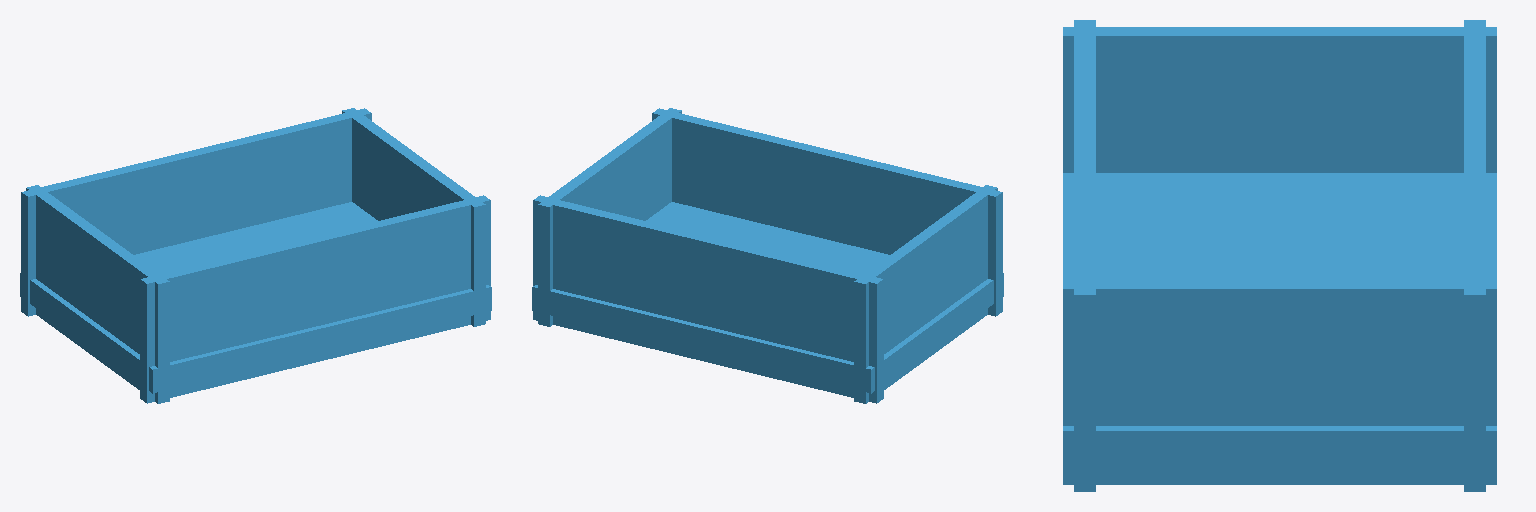
robot.urdf — bowl.urdf:
<?xml version="0.0" ?>
<robot name="bowl.urdf">

  <material name="yellow">
    <color rgba="1 1 0.4 1"/>
  </material>
  <material name="red">
    <color rgba="1 0 0 1"/>
  </material>
  <material name="blue">
    <color rgba=".17 .20 .38 1"/>
  </material>
  <material name="teal">
    <color rgba="0 .5 .5 1"/>
  </material>
  <material name="orange">
    <color rgba=".93 .6 .23 1"/>
  </material>

  <link name="world"/>

  <link name="base">
    <inertial>
      <origin rpy="0 0 0" xyz="0.0 0.0 0.0"/>
       <mass value=".1"/>
       <inertia ixx="1" ixy="0" ixz="0" iyy="1" iyz="0" izz="1"/>
    </inertial>
    <!-- <visual>
      <origin rpy="0 0 0" xyz="0 0 0"/>
      <geometry>
        <box size="1 1 0.5"/> -->
        <!-- <mesh filename="roboverse/envs/assets/objects/box/box.dae" scale="[phone redacted]"/> -->
      <!-- </geometry>
      <material name="teal"/>
    </visual> -->
    <visual>
      <!-- bottom -->
      <origin rpy="0 0 0" xyz="0 0 -0.15"/>
      <geometry>
        <box size="1.48 1 .1"/>
      </geometry>
    </visual>
    <visual>
      <!-- right -->
      <origin rpy="0 0 0" xyz="0 -.45 0"/>
      <geometry>
        <box size="1.5 .05 .5"/>
      </geometry>
    </visual>
    <visual>
      <!-- left -->
      <origin rpy="0 0 0" xyz="0 .45 0"/>
      <geometry>
        <box size="1.5 .05 .5"/>
      </geometry>
    </visual>
    <visual>
      <!-- front -->
      <origin rpy="0 0 0" xyz=".69 0 0"/>
      <geometry>
        <box size=".05 1 .5"/>
      </geometry>
    </visual>
    <visual>
      <!-- back -->
      <origin rpy="0 0 0" xyz="-.69 0 0"/>
      <geometry>
        <box size=".05 1 .5"/>
      </geometry>
    </visual>
    <collision>
      <!--bottom-->
      <origin rpy="0 0 0" xyz="0 0 -.15"/>
      <geometry>
        <box size="1.48 1 .1"/>
      </geometry>
    </collision>
    <collision>
      <!-- right -->
      <origin rpy="0 0 0" xyz="0 -.45 0"/>
      <geometry>
        <box size="1.5 .05 .5"/>
      </geometry>
    </collision>
    <collision>
      <!-- left -->
      <origin rpy="0 0 0" xyz="0 .45 0"/>
      <geometry>
        <box size="1.5 .05 .5"/>
      </geometry>
    </collision>
    <collision>
      <!-- front -->
      <origin rpy="0 0 0" xyz=".69 0 0"/>
      <geometry>
        <box size=".05 1 .5"/>
      </geometry>
    </collision>
    <collision>
      <!-- back -->
      <origin rpy="0 0 0" xyz="-.69 0 0"/>
      <geometry>
        <box size=".05 1 .5"/>
      </geometry>
    </collision>
  </link>

  <joint name="base_joint" type="fixed">
    <parent link="world"/>
    <child link="base"/>
  </joint>

</robot>

--- Render facts (derived) ---
3 views of the same robot in one strip: view 1: azimuth 30°, elevation 25°; view 2: azimuth 150°, elevation 25°; view 3: azimuth 270°, elevation 25° (orthographic).
Model bowl.urdf with 2 links and 1 joints (1 fixed), rooted at world, posed all joints at 0.
Links seen in each view (by area): view 1: base; view 2: base; view 3: base.
Link boxes in pixels (x1,y1,x2,y2): base: (20, 108, 491, 403); base: (532, 108, 1003, 403); base: (1063, 20, 1496, 491).
Size in the robot's own frame: 1.5 by 1 by 0.5 metres.
Geometry: primitives only (box / cylinder / sphere), no mesh files.